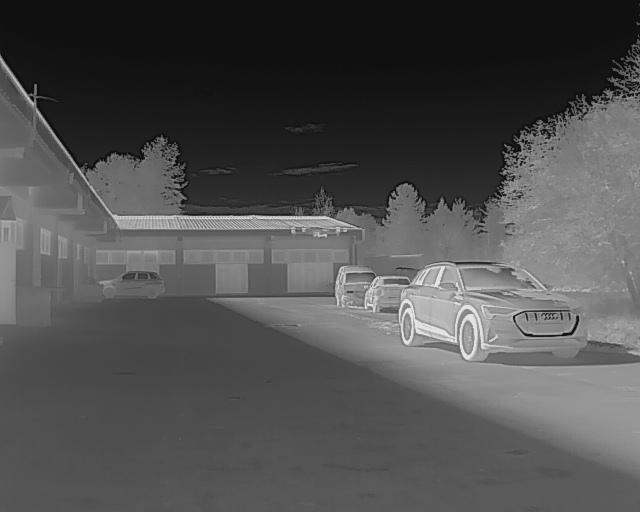drone: (275, 217, 360, 249)
